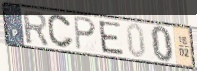0: (148, 25, 176, 64), (125, 22, 148, 60)
C: (46, 14, 75, 50)
E: (97, 20, 125, 57)
P: (72, 15, 98, 51)
R: (20, 9, 50, 47)
